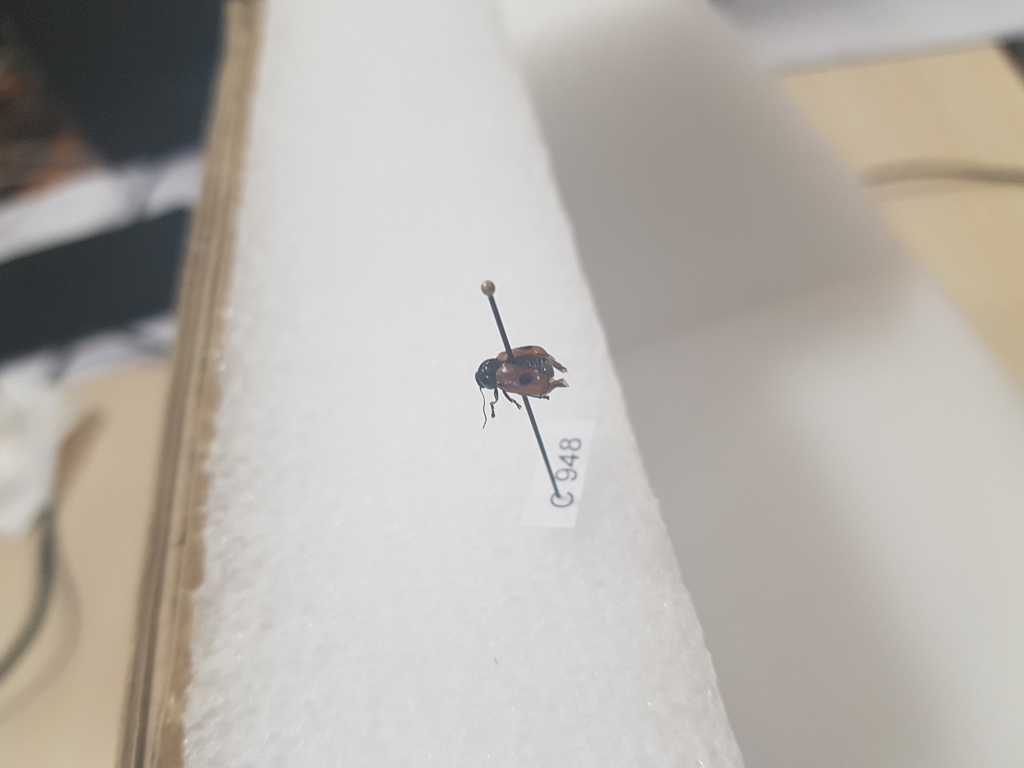Cryptocephalus_bipunctatus: (468, 337, 577, 434)
